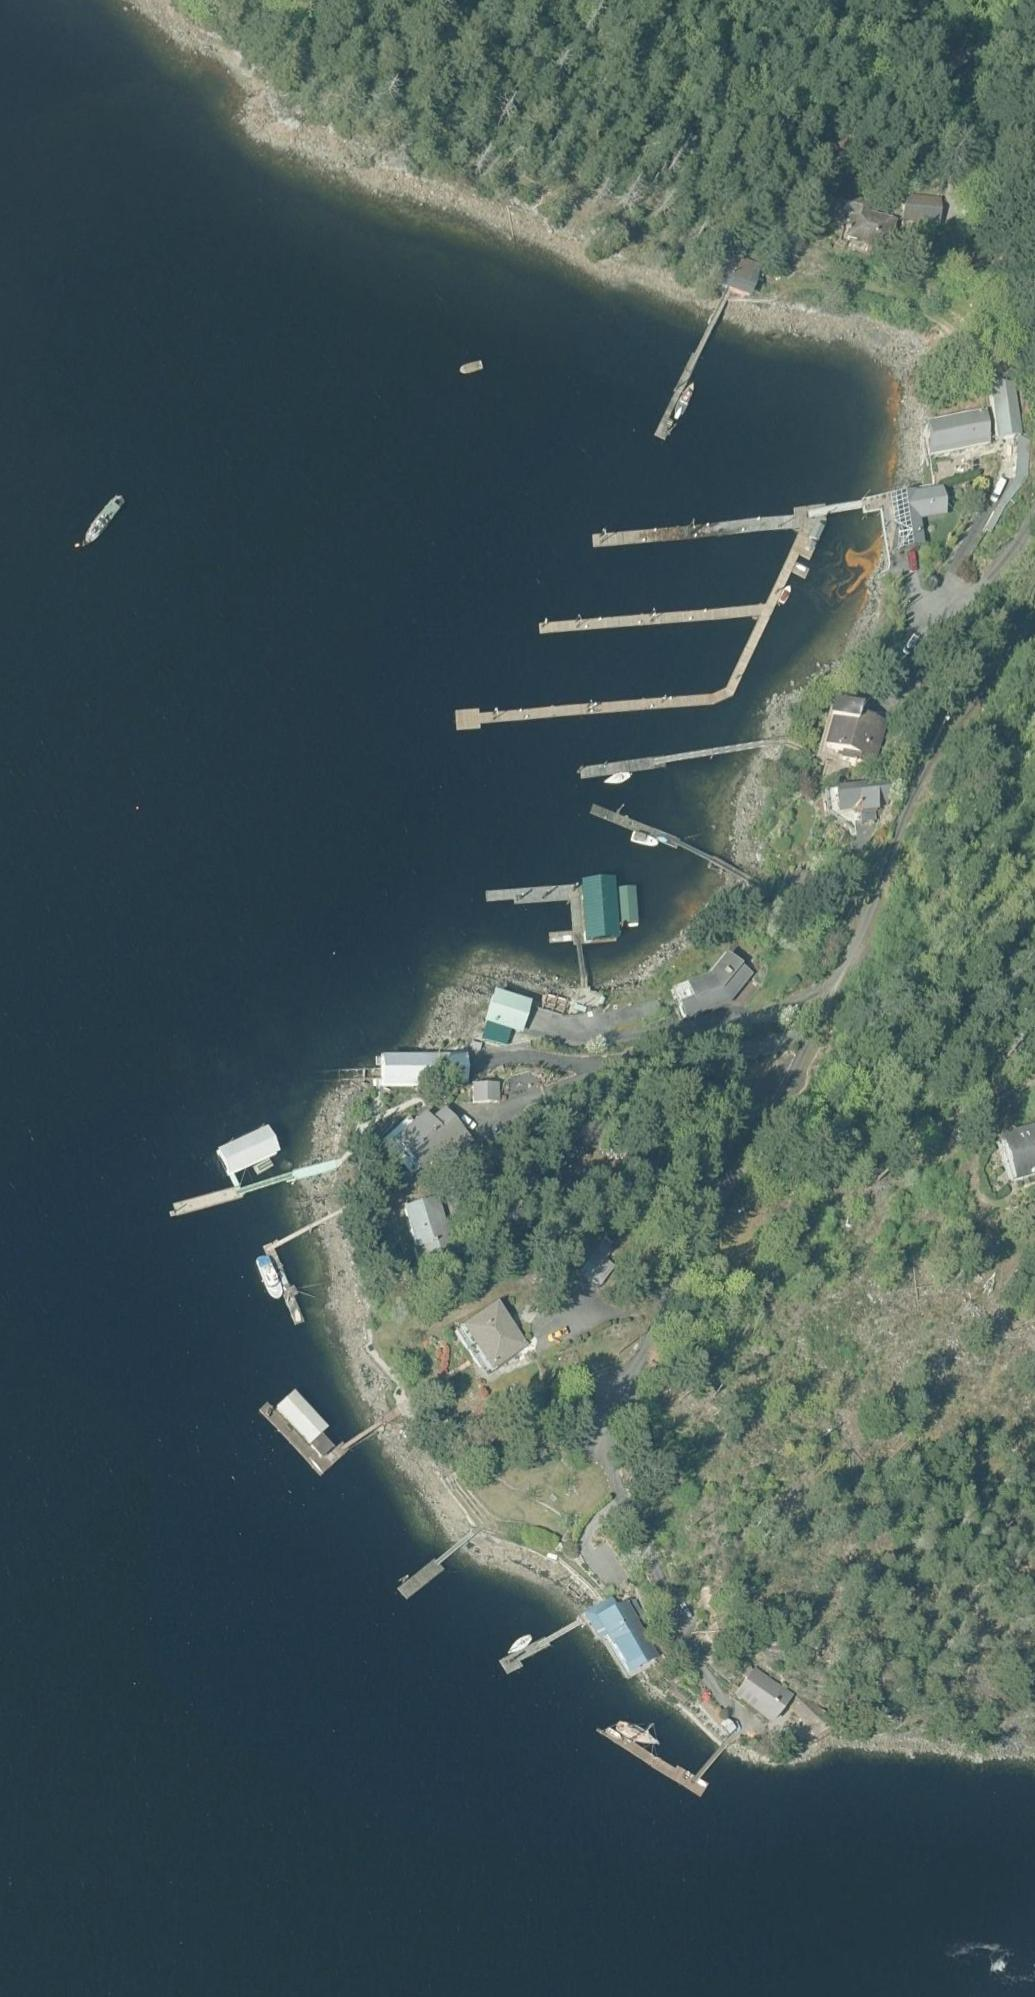harbor: (157, 1109, 341, 1216), (257, 1353, 389, 1478), (591, 1689, 729, 1798), (259, 1208, 374, 1326), (484, 875, 638, 948), (455, 689, 714, 731), (653, 306, 730, 442), (589, 802, 717, 863), (580, 740, 764, 781), (591, 513, 793, 550), (540, 605, 759, 638), (397, 1528, 481, 1602), (500, 1617, 589, 1676)
ship: (77, 491, 127, 552), (614, 1719, 661, 1751), (253, 1253, 285, 1301), (671, 381, 701, 422), (504, 1630, 535, 1656), (627, 829, 661, 849), (599, 772, 635, 788), (458, 359, 484, 376), (778, 583, 793, 606), (605, 1725, 623, 1741), (292, 1309, 304, 1325)
